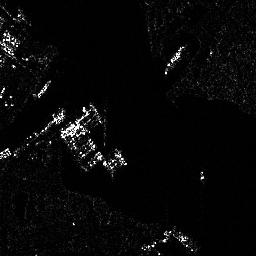ship: (164, 44, 184, 75), (114, 148, 130, 167), (38, 79, 51, 98)
